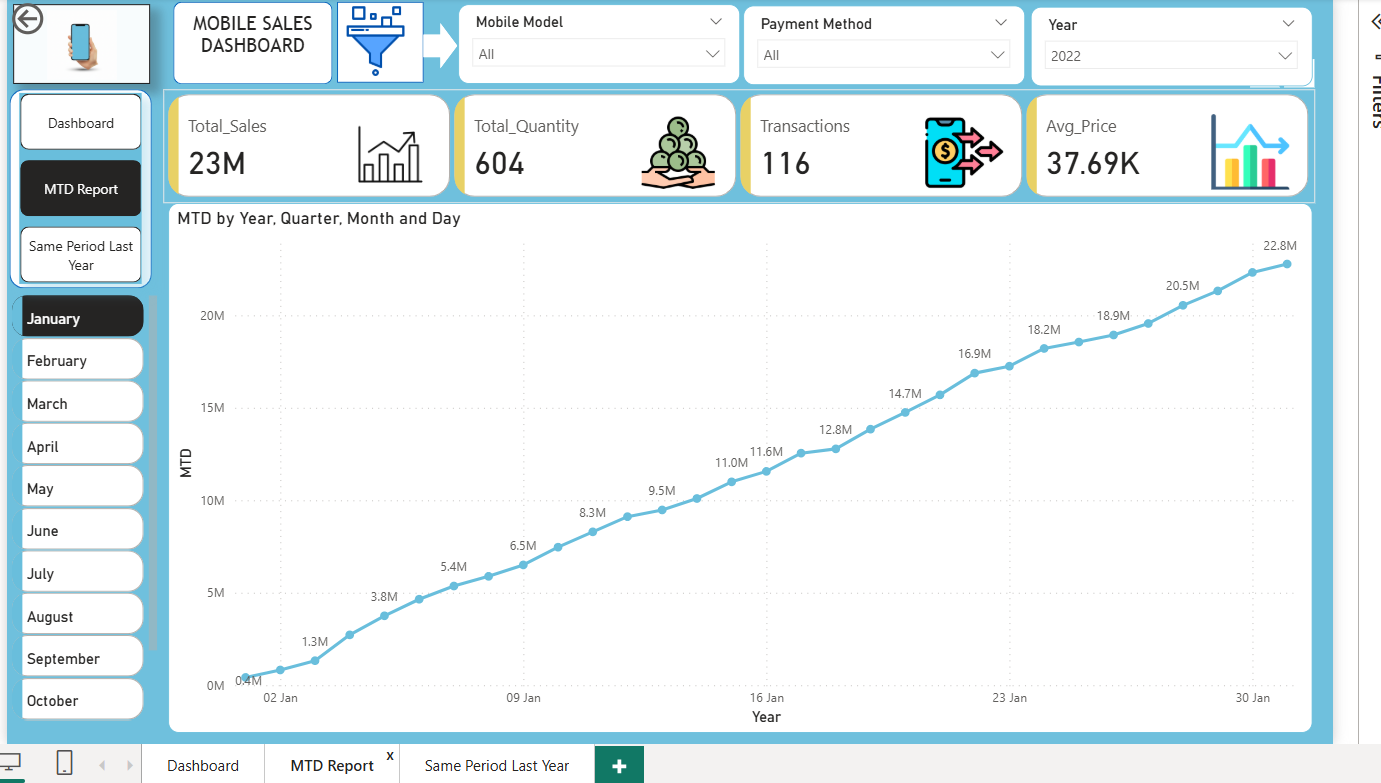

The page's visual inventory and layout, read from the dashboard file:
{"tool":"powerbi","page":{"name":"MTD Report","canvas":[1280,720],"ordinal":1},"visuals":[{"type":"image","box":[5.5,5.5,131.7,76.8],"z":0},{"type":"shape","box":[2.7,87.8,137.2,192.1],"z":1000},{"type":"cardVisual","fields":{"Data":["Sales_Data.Total_Sales","Sales_Data.Total_Quantity","Sales_Data.Total_Transactions","Sales_Data.Avg_Price"]},"box":[150.9,87.8,1111.5,109.8],"z":2000},{"type":"shape","box":[318.4,4.1,83.7,78.2],"z":3000},{"type":"slicer","fields":{"Values":["Sales_Data.Mobile Model"]},"box":[435,5.5,271.7,76.8],"z":4000},{"type":"slicer","fields":{"Values":["Sales_Data.Payment Method"]},"box":[710.8,6.9,271.7,76.8],"z":5000},{"type":"slicer","fields":{"Values":["Customer_Calender.Date.Variation.Date Hierarchy.Year"]},"box":[988,8.2,271.7,76.8],"z":6000},{"type":"image","box":[314.2,2.7,82.3,78.2],"z":7000},{"type":"shape","box":[402.1,24.7,32.9,43.9],"z":8000},{"type":"shape","box":[160.5,4.1,153.7,79.6],"z":9000},{"type":"textbox","box":[170.2,8.2,134.5,72.7],"z":10000},{"type":"actionButton","box":[0,0,100,40],"z":11000},{"type":"lineChart","fields":{"Y":["Sales_Data.MTD"],"Category":["Customer_Calender.Date.Variation.Date Hierarchy.Year","Customer_Calender.Date.Variation.Date Hierarchy.Quarter","Customer_Calender.Date.Variation.Date Hierarchy.Month","Customer_Calender.Date.Variation.Date Hierarchy.Day"]},"box":[155,197.5,1103.8,511.2],"z":12000},{"type":"advancedSlicerVisual","fields":{"Values":["Customer_Calender.Date.Variation.Date Hierarchy.Month"]},"box":[0,282.7,150.9,425.4],"z":13000},{"type":"pageNavigator","box":[12.5,91.2,117.5,183.8],"z":13001}]}

Visuals, with their boxes on the page's 1280x720 design canvas (x1, y1, x2, y2). These are canvas units, not pixel positions in the 1381x783 screenshot, which may show the page scaled, cropped or inside an application window:
image: rect(6, 6, 137, 82)
shape: rect(3, 88, 140, 280)
cardVisual - Sales_Data.Total_Sales x Sales_Data.Total_Quantity: rect(151, 88, 1262, 198)
shape: rect(318, 4, 402, 82)
slicer - Sales_Data.Mobile Model: rect(435, 6, 707, 82)
slicer - Sales_Data.Payment Method: rect(711, 7, 982, 84)
slicer - Customer_Calender.Date.Variation.Date Hierarchy.Year: rect(988, 8, 1260, 85)
image: rect(314, 3, 396, 81)
shape: rect(402, 25, 435, 69)
shape: rect(160, 4, 314, 84)
textbox: rect(170, 8, 305, 81)
actionButton: rect(0, 0, 100, 40)
lineChart - Sales_Data.MTD x Customer_Calender.Date.Variation.Date Hierarchy.Year: rect(155, 198, 1259, 709)
advancedSlicerVisual - Customer_Calender.Date.Variation.Date Hierarchy.Month: rect(0, 283, 151, 708)
pageNavigator: rect(12, 91, 130, 275)
